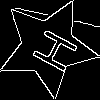H: (22, 22, 80, 75)
